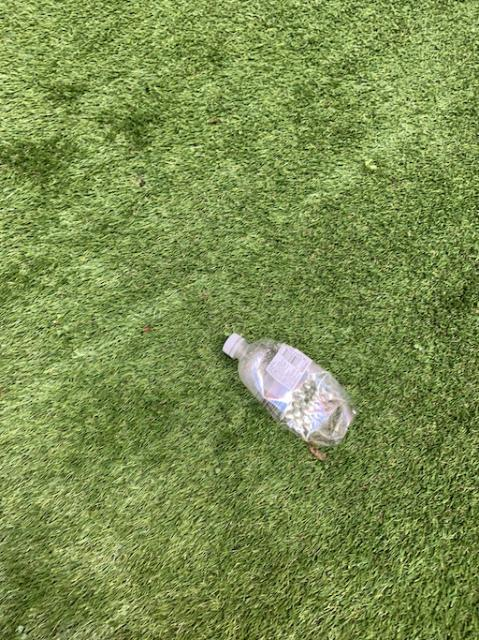plastic: (222, 333, 354, 444)
